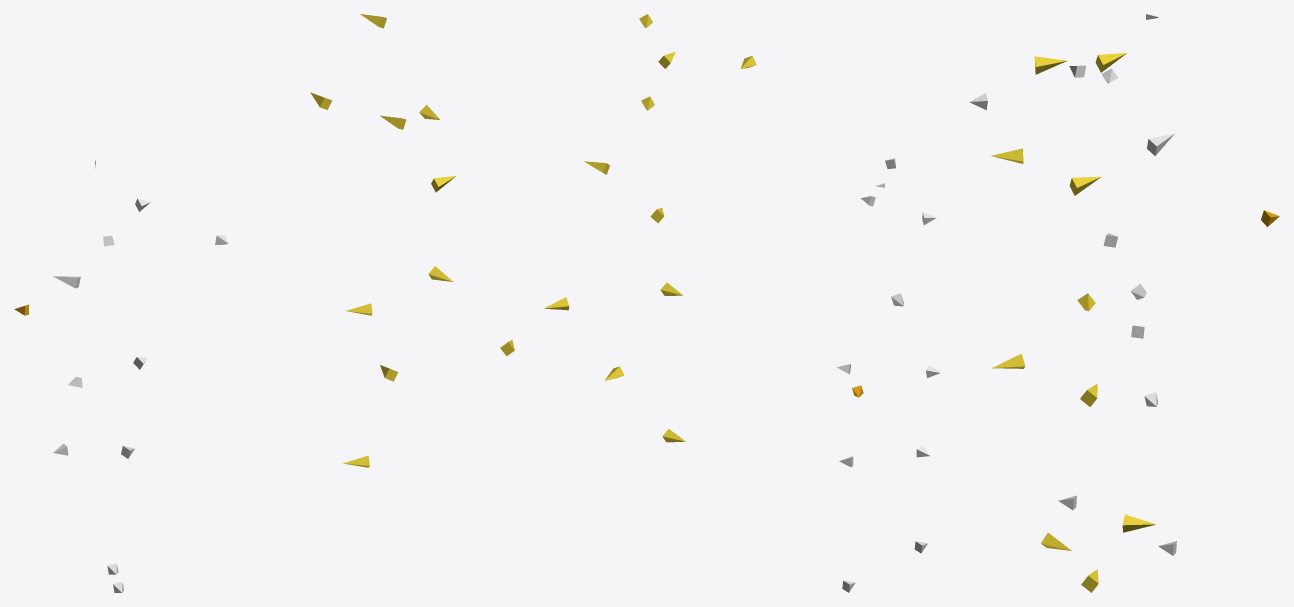
File: KaktusUji1.glb
3 views of the same model, side by side, from view 1: azimuth 30°, elevation 25°; view 2: azimuth 150°, elevation 25°; view 3: azimuth 270°, elevation 25° (orthographic). The views are drawn at different scales.
Size of the model in its own units: 2.45 by 2.83 by 1.24.
